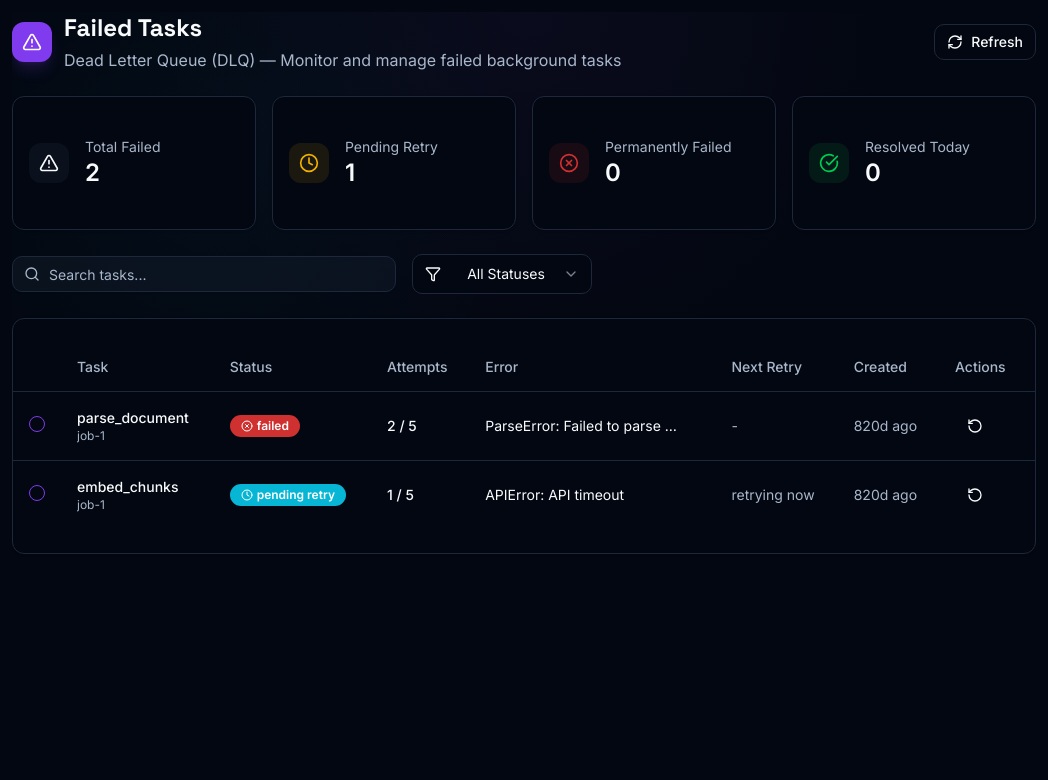
DLQ Dashboard Filtering › should show "no matching tasks" when filter has no results
The width and height of the screenshot is (1048, 780).
Expected: the text "parse_document" is shown, x1=77 y1=408 x2=198 y2=428
Type "nonexistent" into the field with placeholder "Search tasks..." at (204, 274), box x1=12 y1=256 x2=396 y2=292
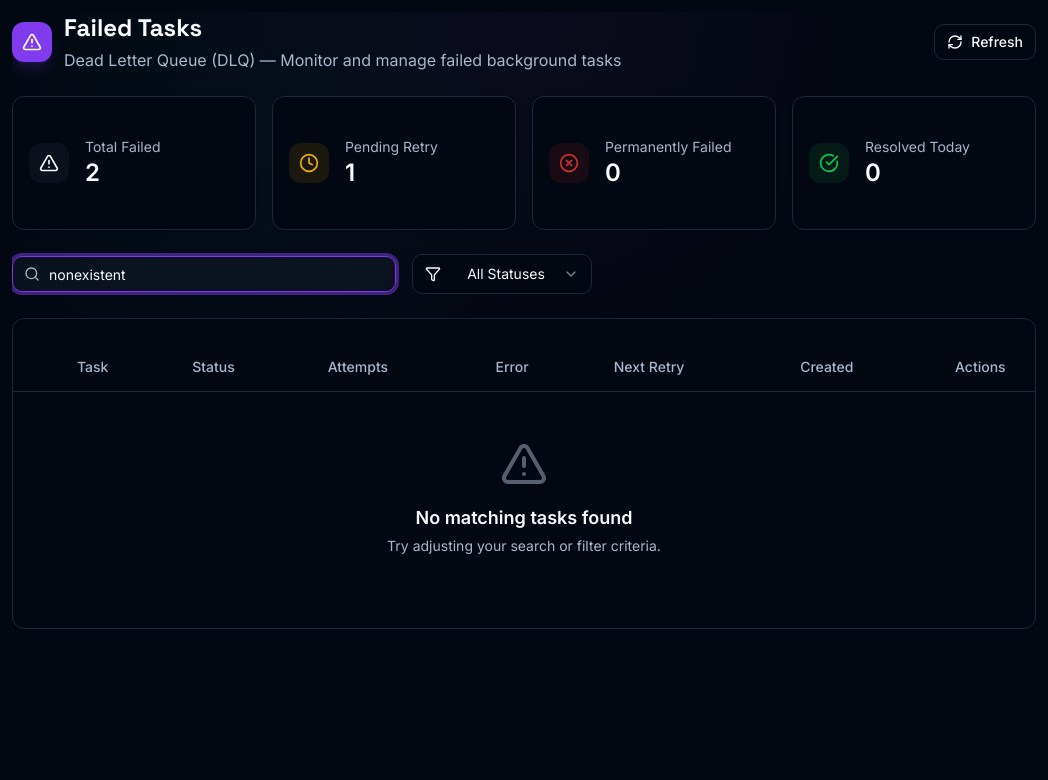
Result: the heading "No matching tasks found" is shown at x1=416 y1=504 x2=632 y2=532
